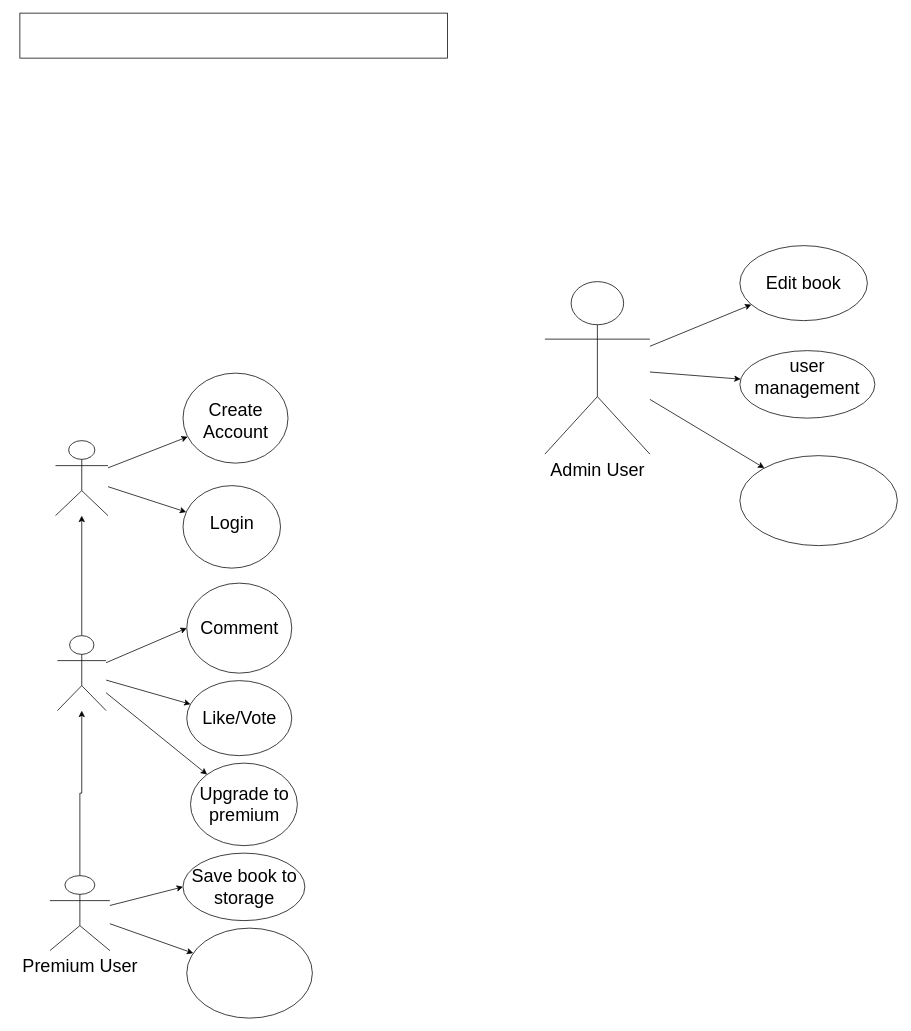
This 911x1031 diagram has some shape labels left out. The box of each missing label's shape, as (x1, y1, x2, y2) in pixels:
Anonymous User: (55, 440, 108, 516)
Registered User: (57, 635, 106, 711)
Upgrade user to Premium: (739, 455, 897, 546)
Web Đọc Truyện: (19, 12, 447, 58)
Will not see advertising: (186, 927, 312, 1018)
